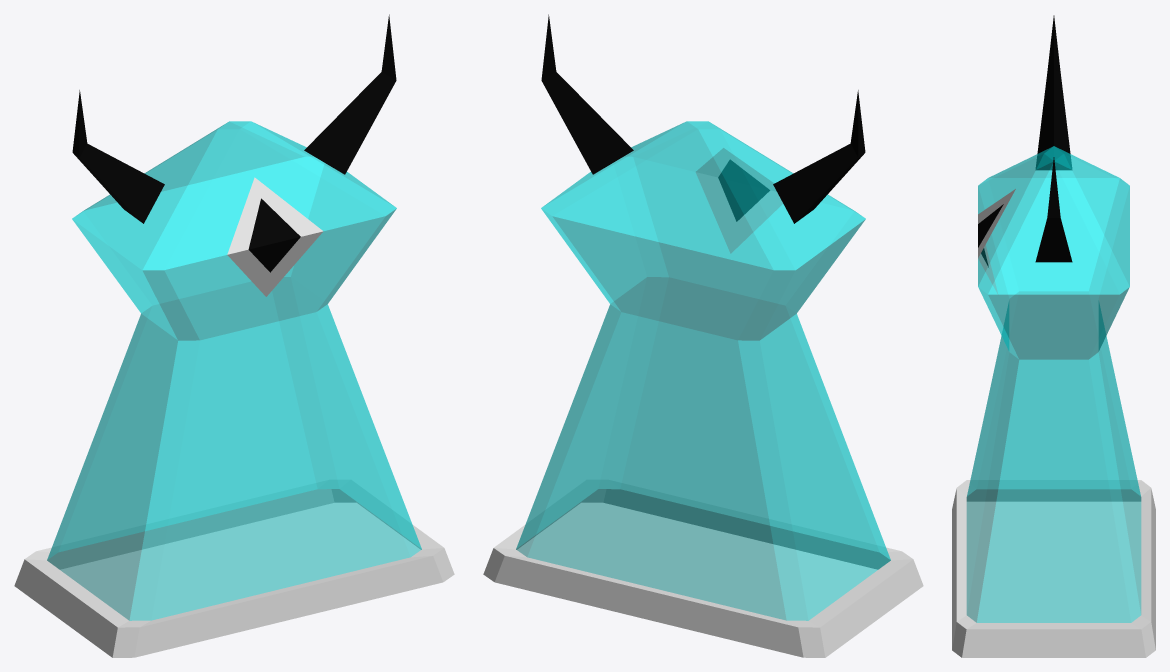
Rendered from FichaHantuEnemigo.fbx.
3 views of the same model, side by side, from view 1: azimuth 30°, elevation 25°; view 2: azimuth 150°, elevation 25°; view 3: azimuth 270°, elevation 25° (orthographic). The views are drawn at different scales.
Visible parts, largest first — view 1: HEnemigo.001; view 2: HEnemigo.001; view 3: HEnemigo.001.
Part boxes in pixels (x1,y1,x2,y2): HEnemigo.001: (14, 14, 454, 657); HEnemigo.001: (483, 14, 923, 657); HEnemigo.001: (952, 15, 1155, 657).
Size of the model in its own units: 26.45 by 39.04 by 14.57.
